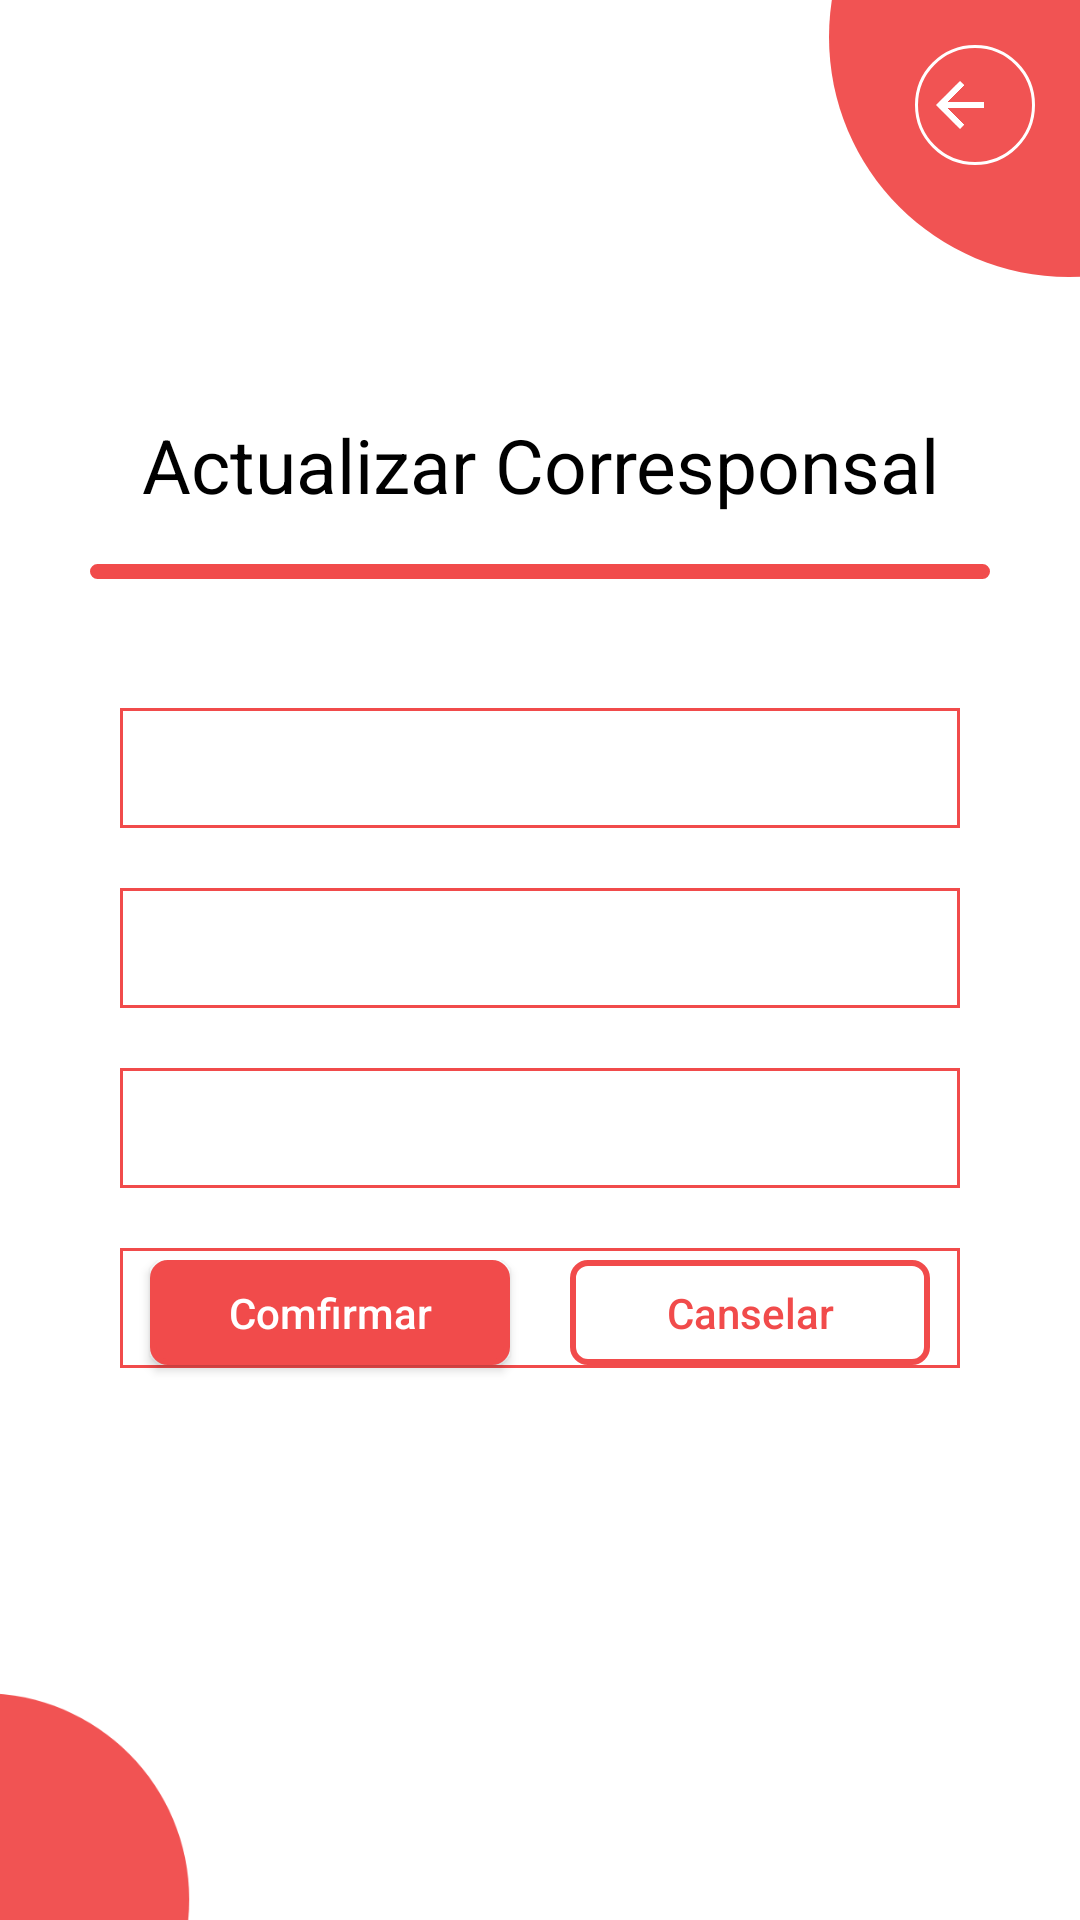

Icon bounding boxes for this 1080 × 1920 phone screenshot, format box(x1, y1, x2, y2):
back: box(915, 45, 1035, 165)
